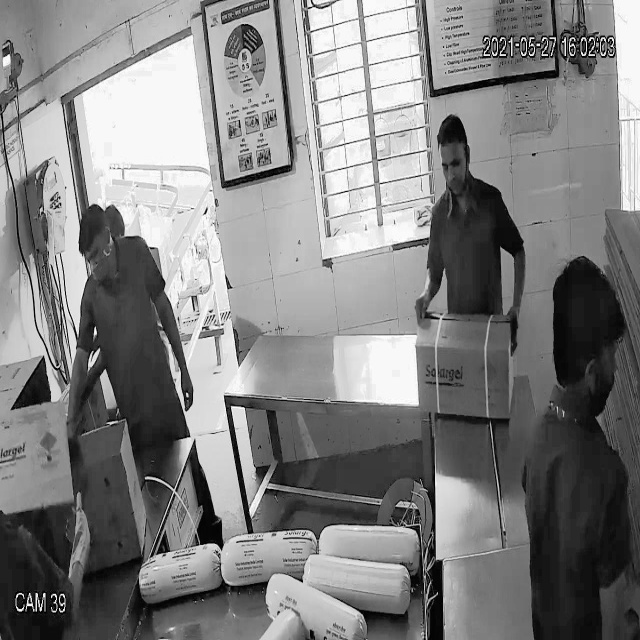Sin_gafas: (435, 148, 474, 180)
